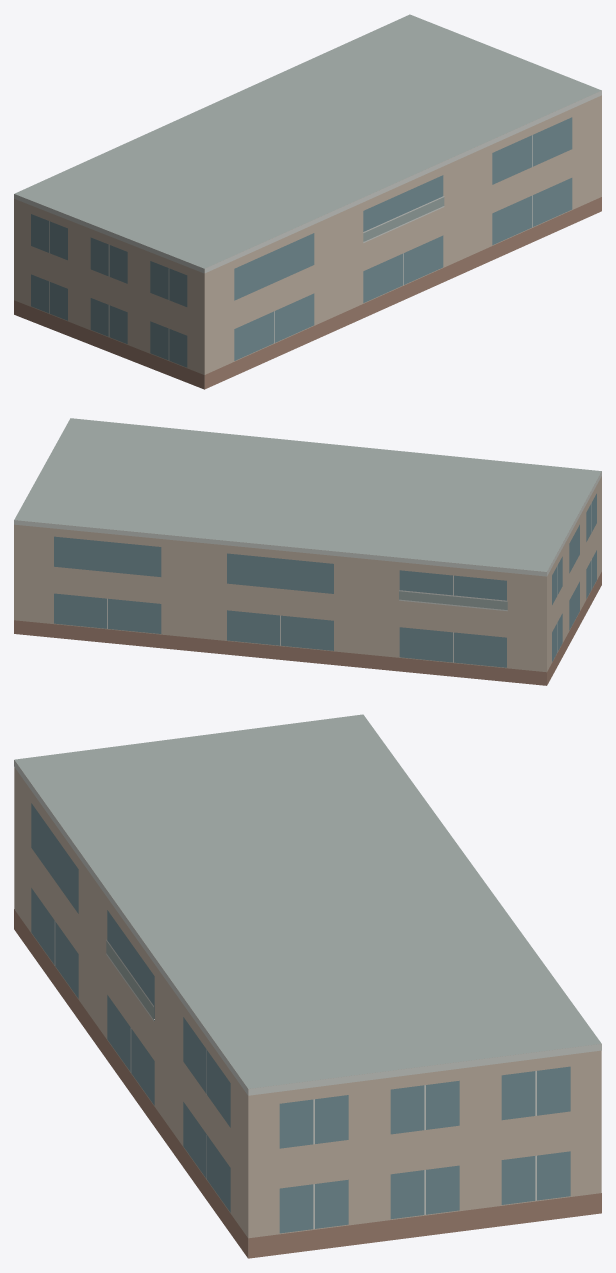
File: survey-upis-32581777.glb
3 renders of one model, top to bottom at view 1: azimuth 30°, elevation 25°; view 2: azimuth 150°, elevation 25°; view 3: azimuth 270°, elevation 25°, orthographic. The views are drawn at different scales.
Visible parts, largest first — view 1: survey-upis-32581777.tmp; view 2: survey-upis-32581777.tmp; view 3: survey-upis-32581777.tmp.
Part boxes in pixels (left/top/right/bottom): survey-upis-32581777.tmp: left=14, top=14, right=601, bottom=389; survey-upis-32581777.tmp: left=14, top=418, right=601, bottom=685; survey-upis-32581777.tmp: left=14, top=714, right=601, bottom=1258.
Size of the model in its own units: 28.91 by 6.1 by 19.17.
